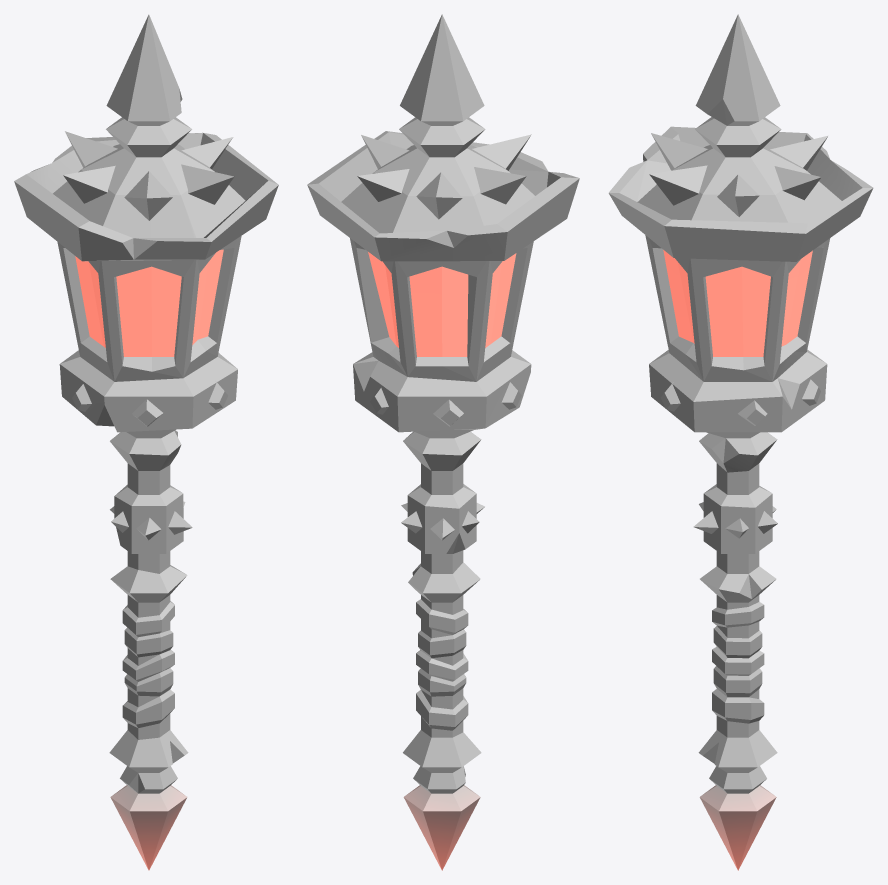
Rendered from SM_Prop_Torch_09.fbx.
3 views of the same model, side by side, from view 1: azimuth 30°, elevation 25°; view 2: azimuth 150°, elevation 25°; view 3: azimuth 270°, elevation 25° (orthographic).
Parts seen in each view (by area): view 1: SM_Prop_Torch_09; view 2: SM_Prop_Torch_09; view 3: SM_Prop_Torch_09.
Part boxes in pixels (x1,y1,x2,y2): SM_Prop_Torch_09: (14,14,278,870); SM_Prop_Torch_09: (307,14,579,870); SM_Prop_Torch_09: (608,14,873,870).
Bounding box in the file's own units: 23.24 × 92.74 × 26.
